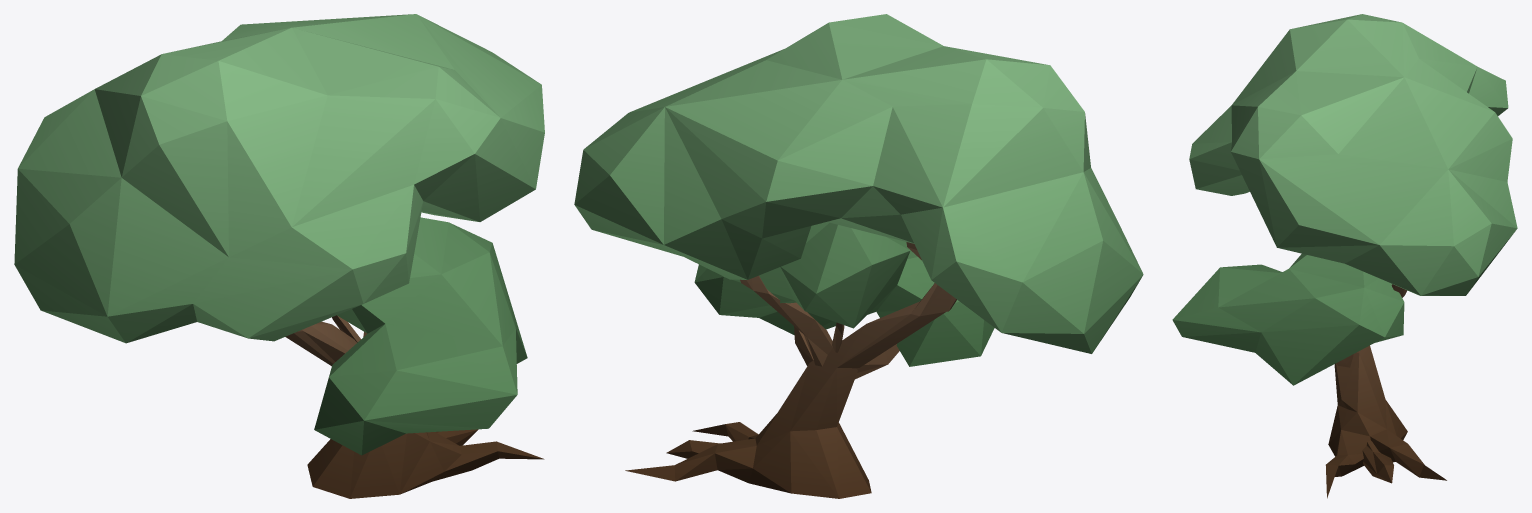
The picture shows the model from 3 angles, left to right: view 1: azimuth 30°, elevation 25°; view 2: azimuth 150°, elevation 25°; view 3: azimuth 270°, elevation 25°; orthographic projection. The views are drawn at different scales.
Parts seen in each view (by area): view 1: Arbol1_0; view 2: Arbol1_0; view 3: Arbol1_0.
Part boxes in pixels (<box>): Arbol1_0: <box>14,14,544,498</box>; Arbol1_0: <box>574,14,1143,498</box>; Arbol1_0: <box>1172,14,1517,498</box>.
Size of the model in its own units: 19.04 by 16.99 by 14.53.
Materials: 1 (1 with a texture image).
